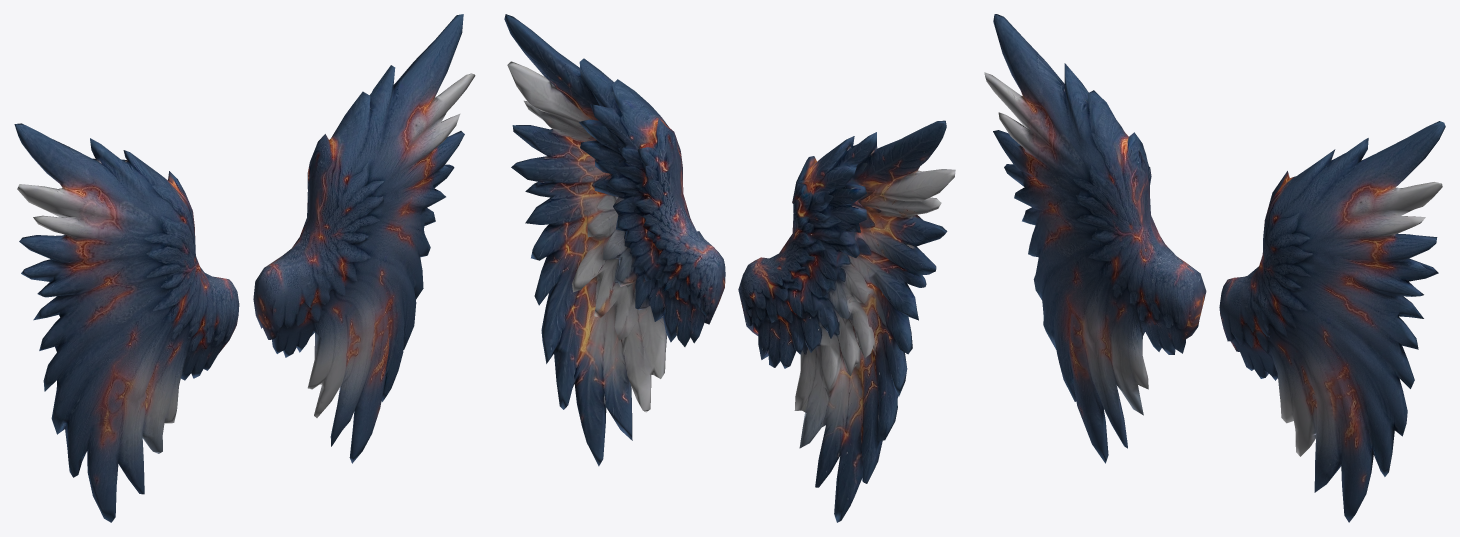
Rendered from wings.glb.
3 views of the same model, side by side, from view 1: azimuth 30°, elevation 25°; view 2: azimuth 150°, elevation 25°; view 3: azimuth 330°, elevation 25° (orthographic). The views are drawn at different scales.
Visible parts, largest first — view 1: rbr_lava_wings_blue_hSgTrDZf_mesh; view 2: rbr_lava_wings_blue_hSgTrDZf_mesh; view 3: rbr_lava_wings_blue_hSgTrDZf_mesh.
Boxes of the visible parts, x1,y1,x2,y2 form: rbr_lava_wings_blue_hSgTrDZf_mesh: (14,14,475,522); rbr_lava_wings_blue_hSgTrDZf_mesh: (504,14,955,522); rbr_lava_wings_blue_hSgTrDZf_mesh: (984,14,1445,522).
Bounding box in the file's own units: 0.0361 × 0.0325 × 0.00568.
Materials: 1 (1 with a texture image).
